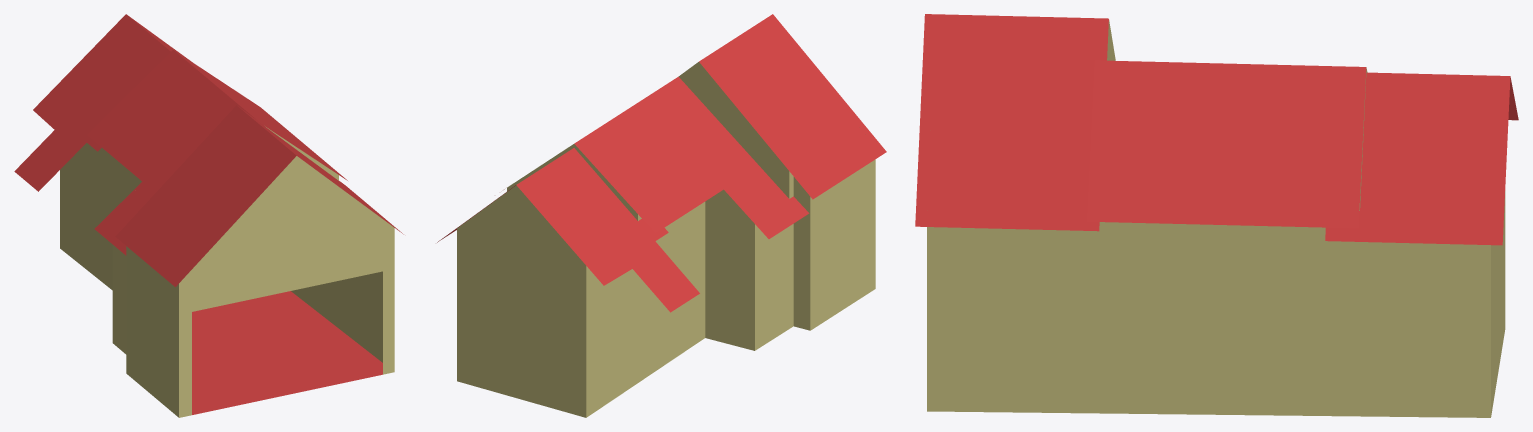
3 views of the same model, side by side, from view 1: azimuth 30°, elevation 25°; view 2: azimuth 150°, elevation 25°; view 3: azimuth 270°, elevation 25° (orthographic). The views are drawn at different scales.
Size of the model in its own units: 17.24 by 26.84 by 16.26.
